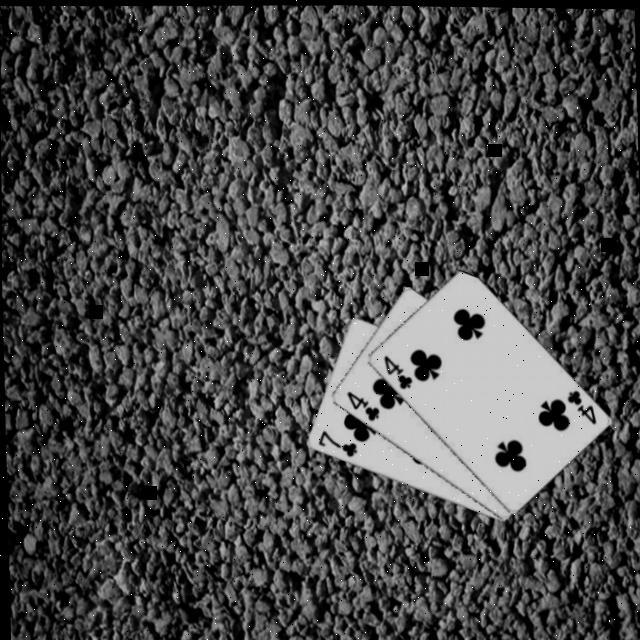4C: (344, 388, 384, 425), (564, 386, 600, 427), (381, 352, 416, 392)
7C: (314, 427, 361, 462)
